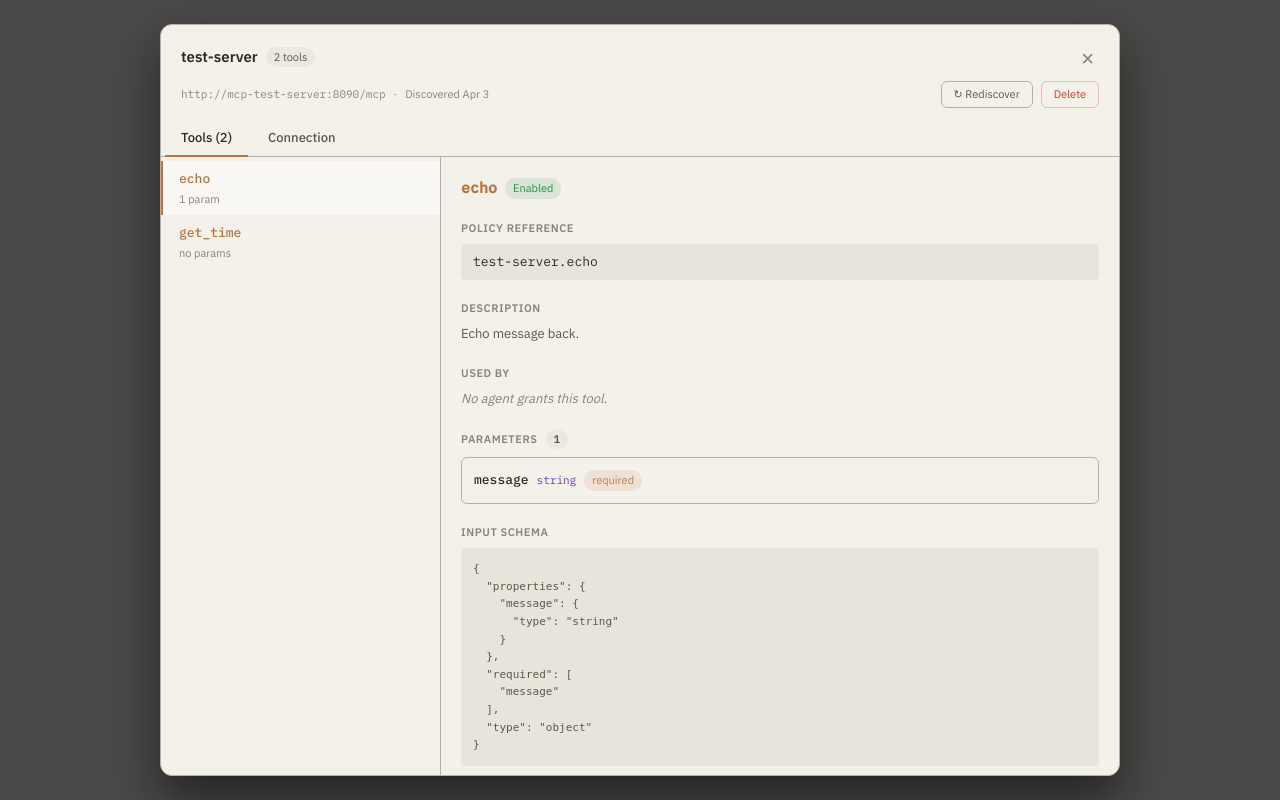
ServerDetailModal — auth header editor › offers "Add headers" when server has no auth_header_keys
This screenshot has width=1280, height=800.
Click the tab "Connection". click: (302,138)
box: [252,120,352,157]
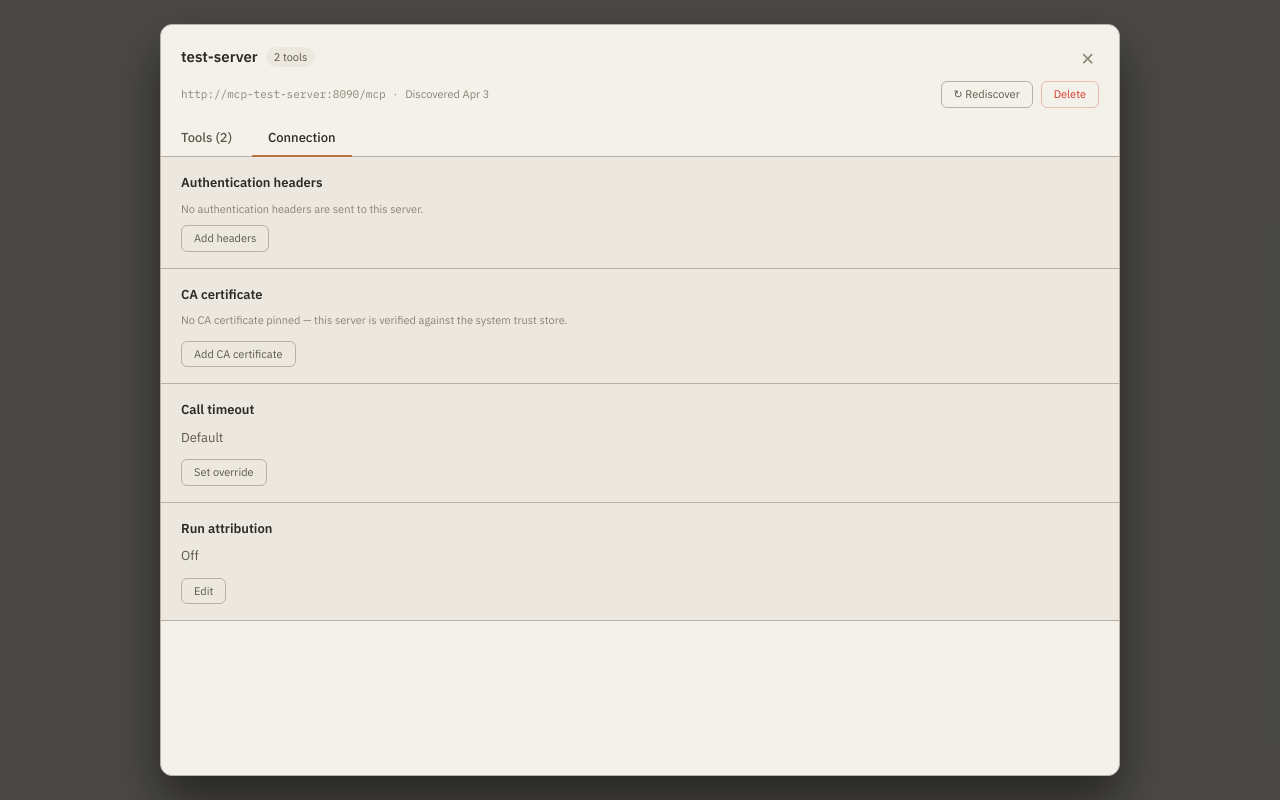
Expected: the text "No authentication headers are sent to this server." is shown, [181,202,423,216]
Expected: the button "Add headers" is shown, [181,225,269,252]
